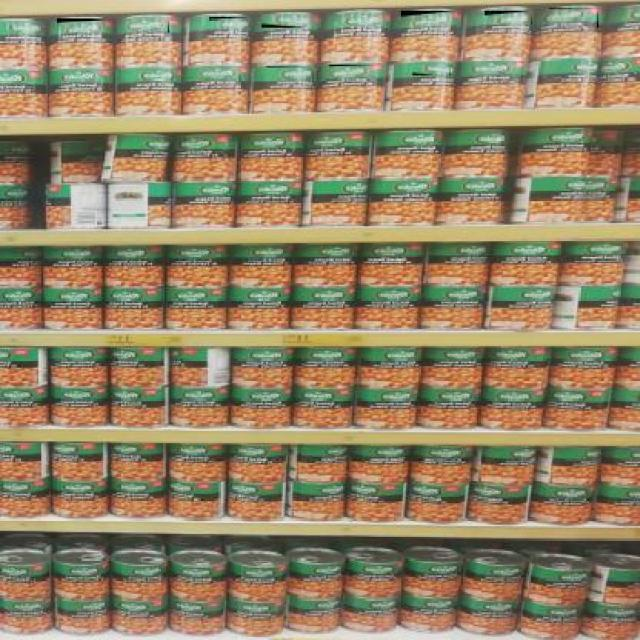Beans: (548, 8, 599, 30), (398, 12, 456, 30), (260, 14, 322, 30), (55, 18, 111, 34), (265, 66, 314, 83), (328, 65, 380, 81), (482, 11, 533, 27), (334, 14, 388, 28), (468, 60, 512, 76), (125, 18, 169, 34), (197, 69, 240, 83), (208, 17, 252, 29), (411, 65, 451, 77), (6, 21, 46, 33)
